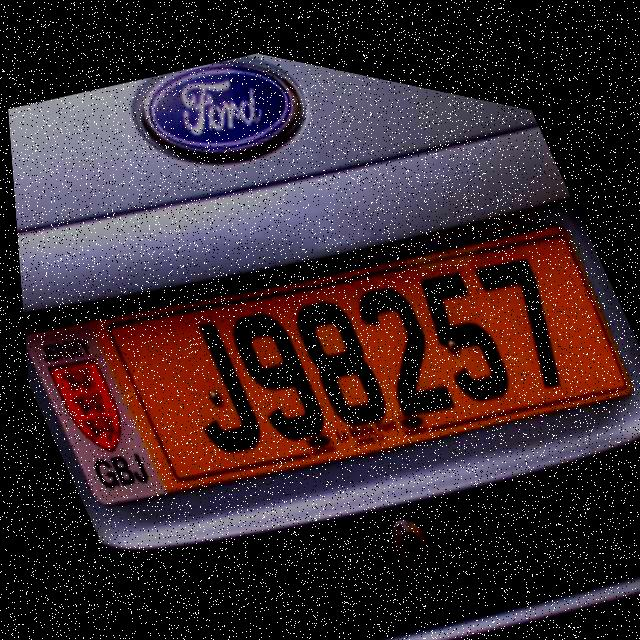license_plate: (6, 101, 640, 598)
